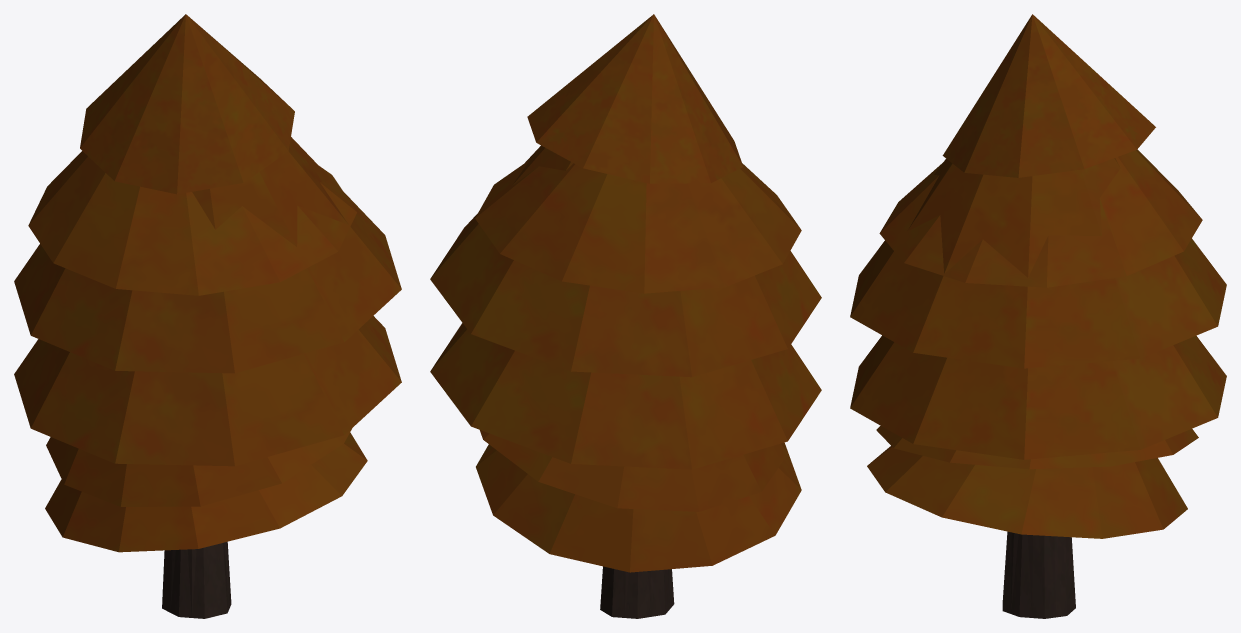
The model's file is tree-green-red-flowers_1.fbx.
3 renders of one model, left to right at view 1: azimuth 30°, elevation 25°; view 2: azimuth 150°, elevation 25°; view 3: azimuth 270°, elevation 25°, orthographic.
Visible parts, largest first — view 1: Cylinder.029; view 2: Cylinder.029; view 3: Cylinder.029.
Part boxes in pixels (box(x1,y1,x2,y2)): Cylinder.029: box(14, 14, 401, 618); Cylinder.029: box(430, 14, 821, 618); Cylinder.029: box(850, 14, 1226, 618).
Size of the model in its own units: 111 by 186 by 109.
